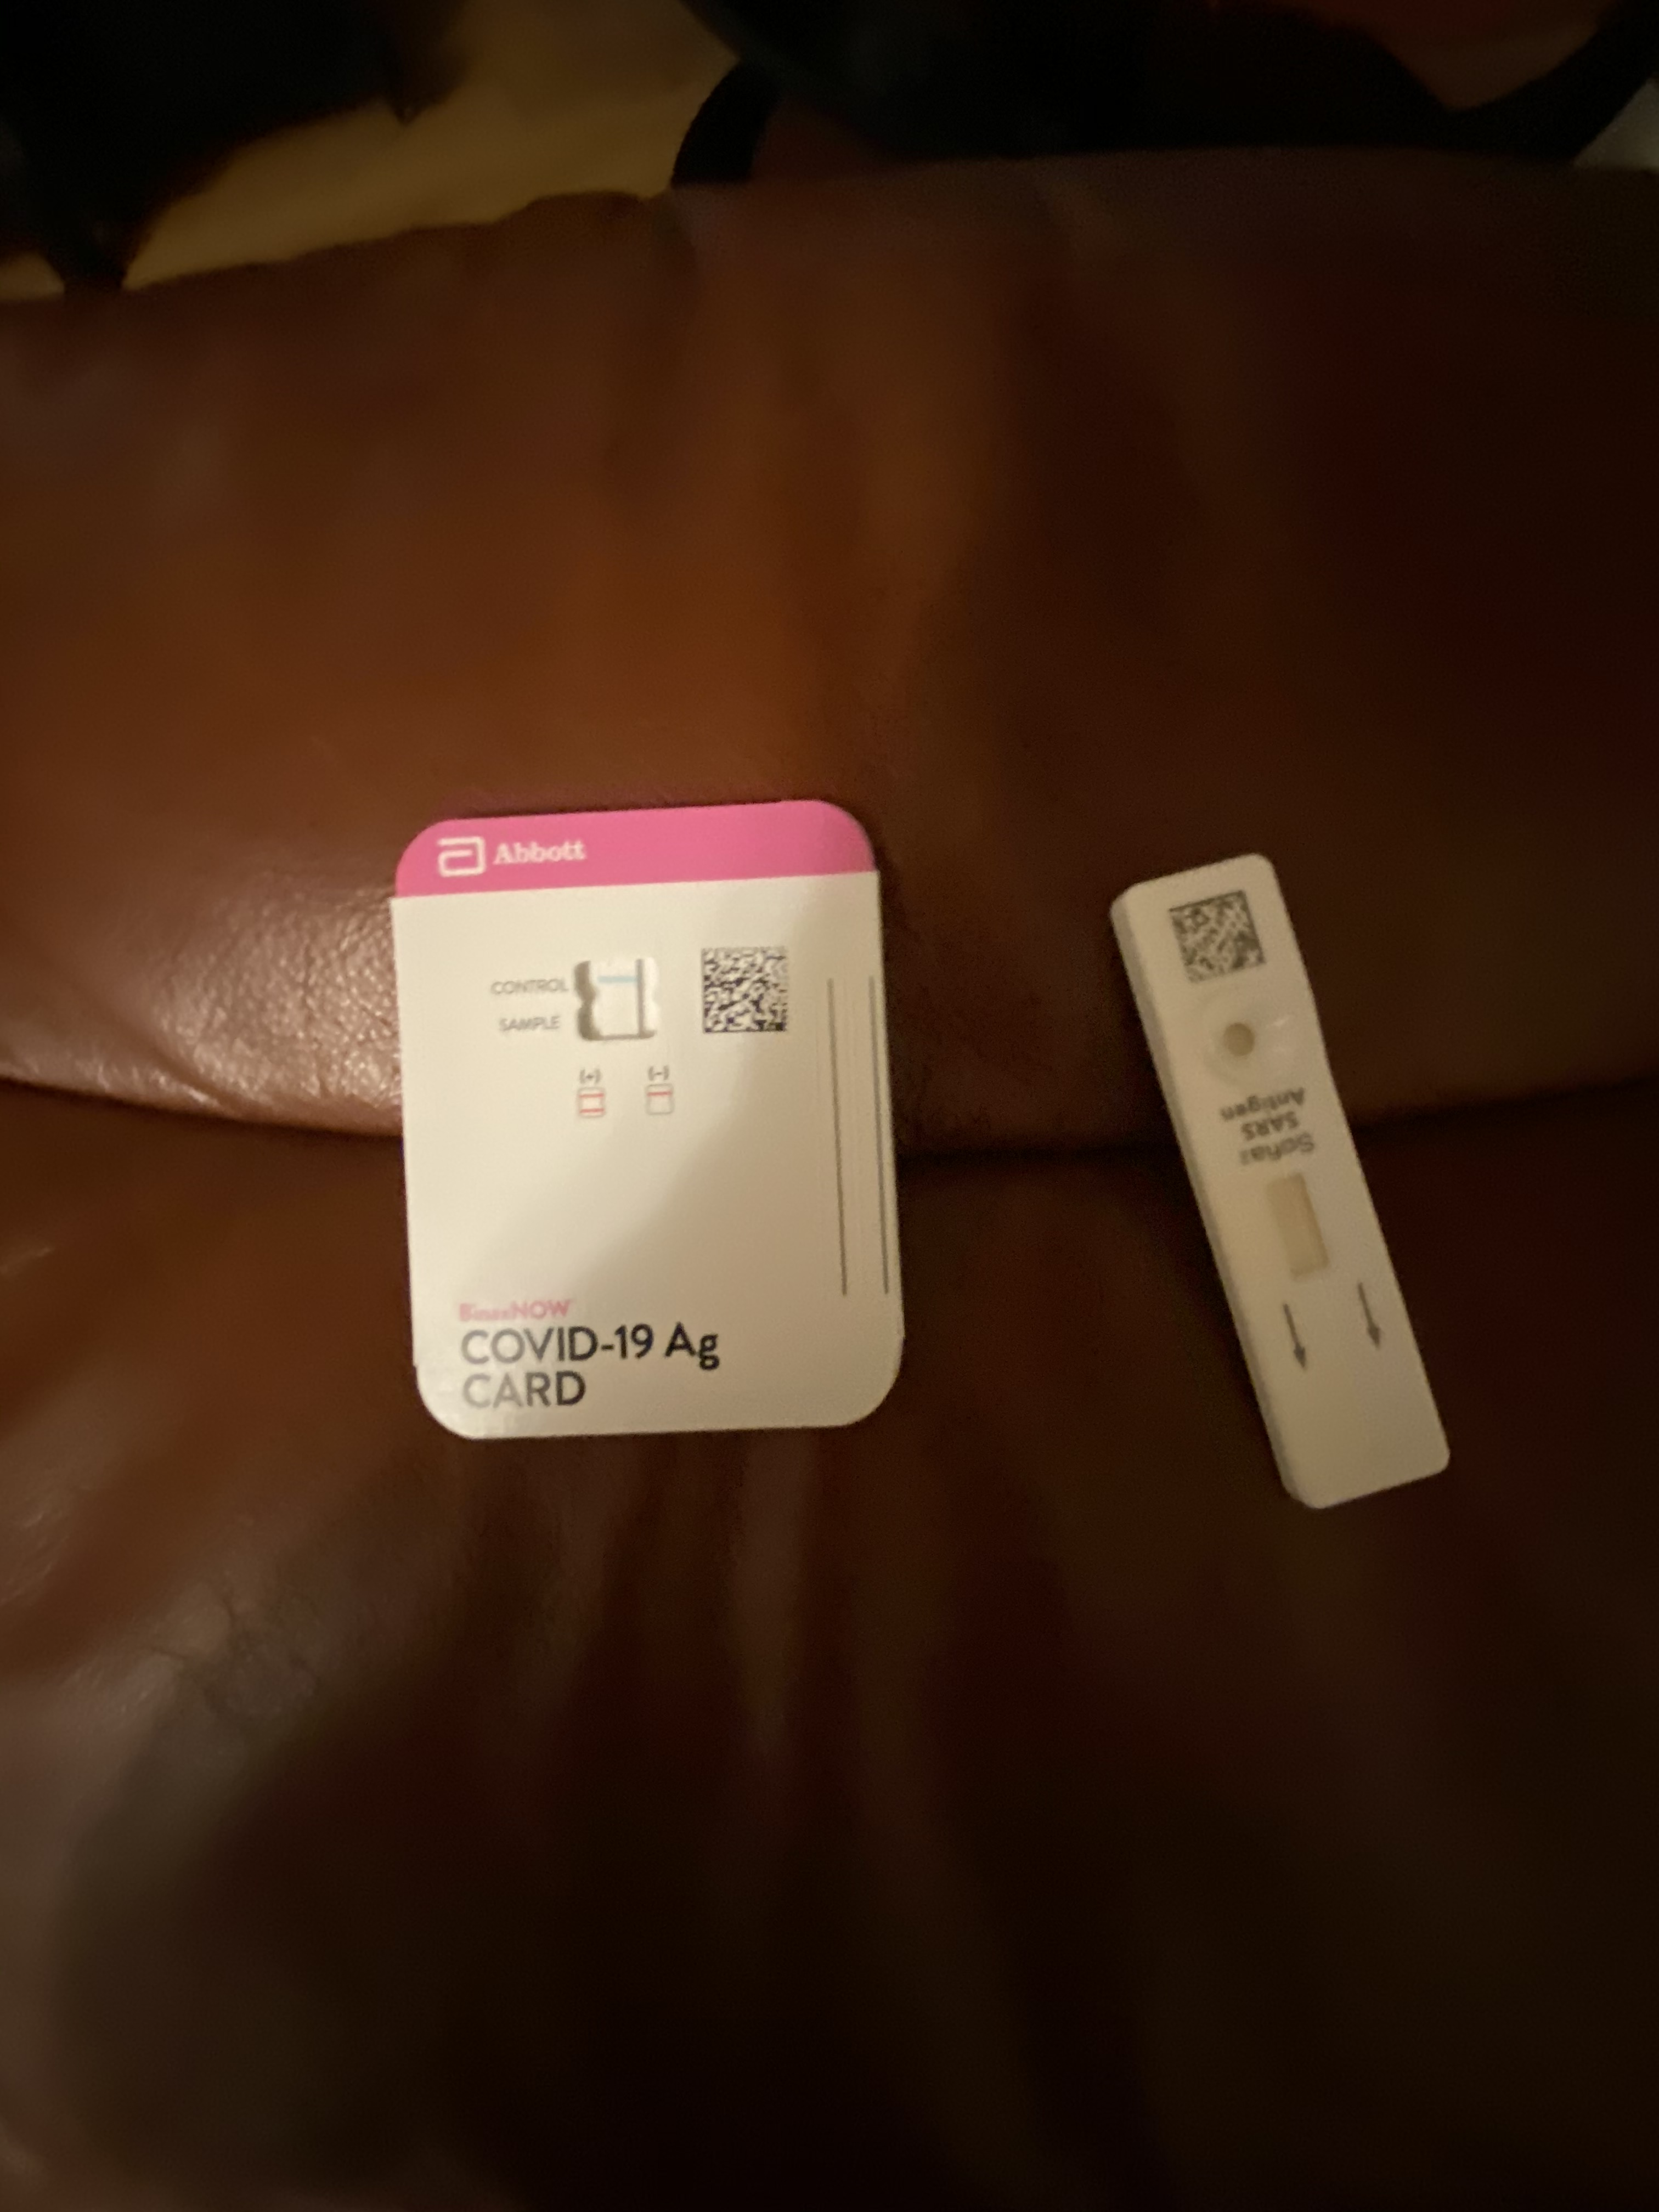binax: (389, 799, 917, 1442)
quidel: (1103, 848, 1476, 1524)
